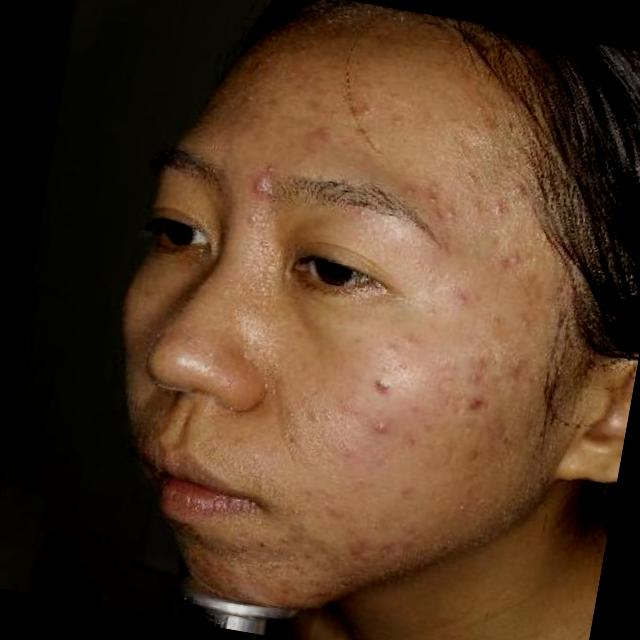darkspot: (461, 384, 488, 414)
nodules: (240, 164, 282, 206), (364, 367, 402, 402), (368, 412, 396, 440), (502, 245, 532, 270), (282, 502, 306, 523), (464, 200, 490, 218), (507, 178, 531, 196), (387, 112, 408, 131), (486, 198, 508, 216)
